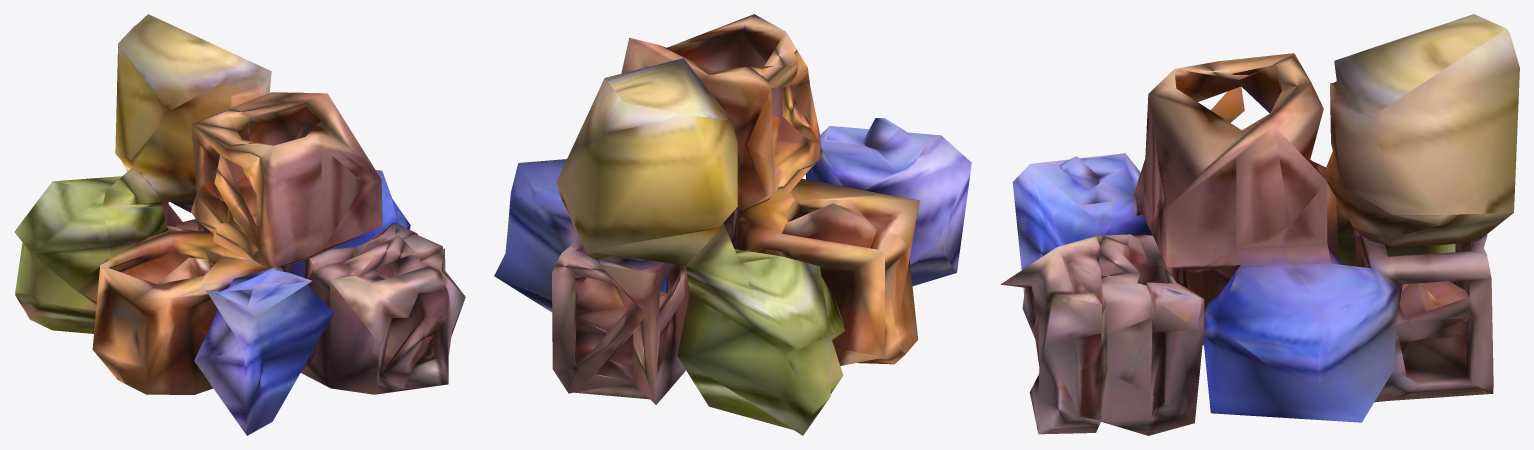
The model's file is barrel_crates.glb.
3 views of the same model, side by side, from view 1: azimuth 30°, elevation 25°; view 2: azimuth 150°, elevation 25°; view 3: azimuth 270°, elevation 25° (orthographic). The views are drawn at different scales.
Visible parts, largest first — view 1: tripo_node_fa181017-c6d1-47ea-987e-c22a188273b9; view 2: tripo_node_fa181017-c6d1-47ea-987e-c22a188273b9; view 3: tripo_node_fa181017-c6d1-47ea-987e-c22a188273b9.
Boxes of the visible parts, x1,y1,x2,y2 form: tripo_node_fa181017-c6d1-47ea-987e-c22a188273b9: (14,14,465,435); tripo_node_fa181017-c6d1-47ea-987e-c22a188273b9: (494,14,971,435); tripo_node_fa181017-c6d1-47ea-987e-c22a188273b9: (1000,14,1519,435).
Size of the model in its own units: 0.8279 by 0.652 by 0.9039.
1 material, 1 textured.
